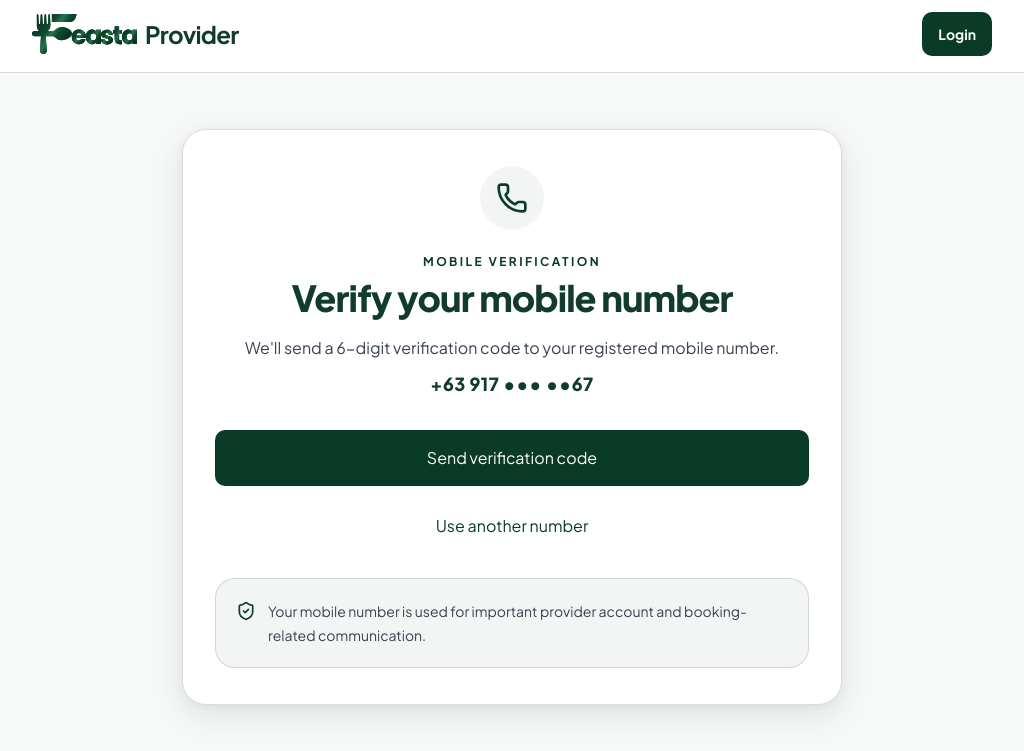
Scenario: provider phone verification › shows a safe invalid-code error and keeps the code form available
Click the button "Send verification code": (512, 458) [215,430,809,486]
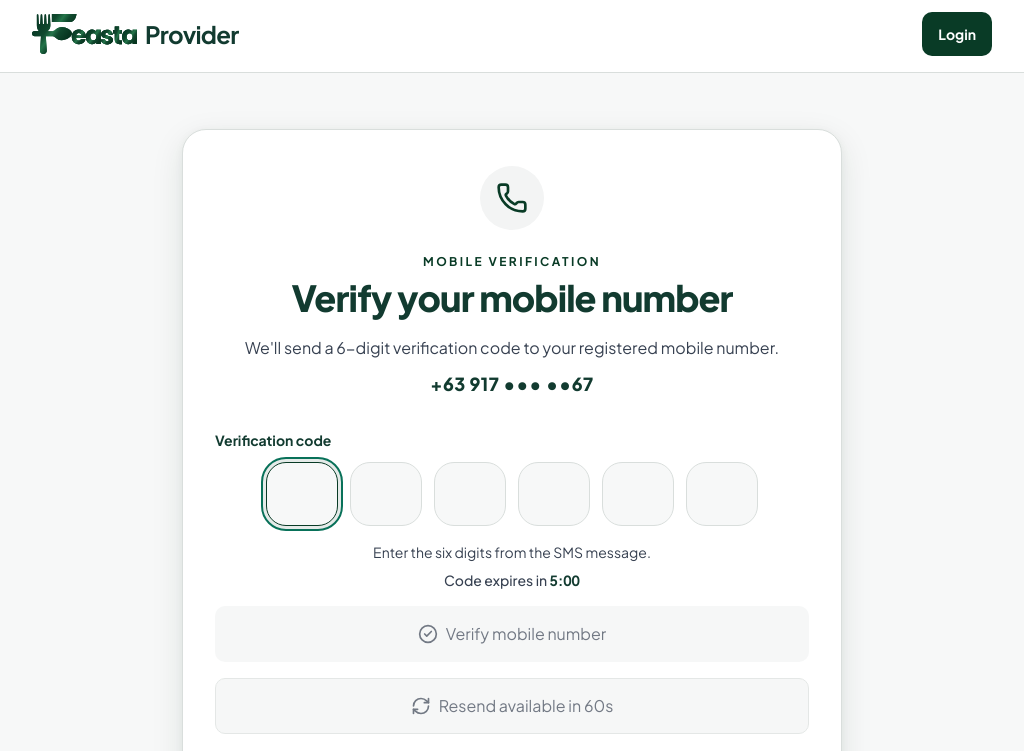
In the field named "Verification code digit 1 of 6": (302, 494) [266,462,338,526], type "111111"
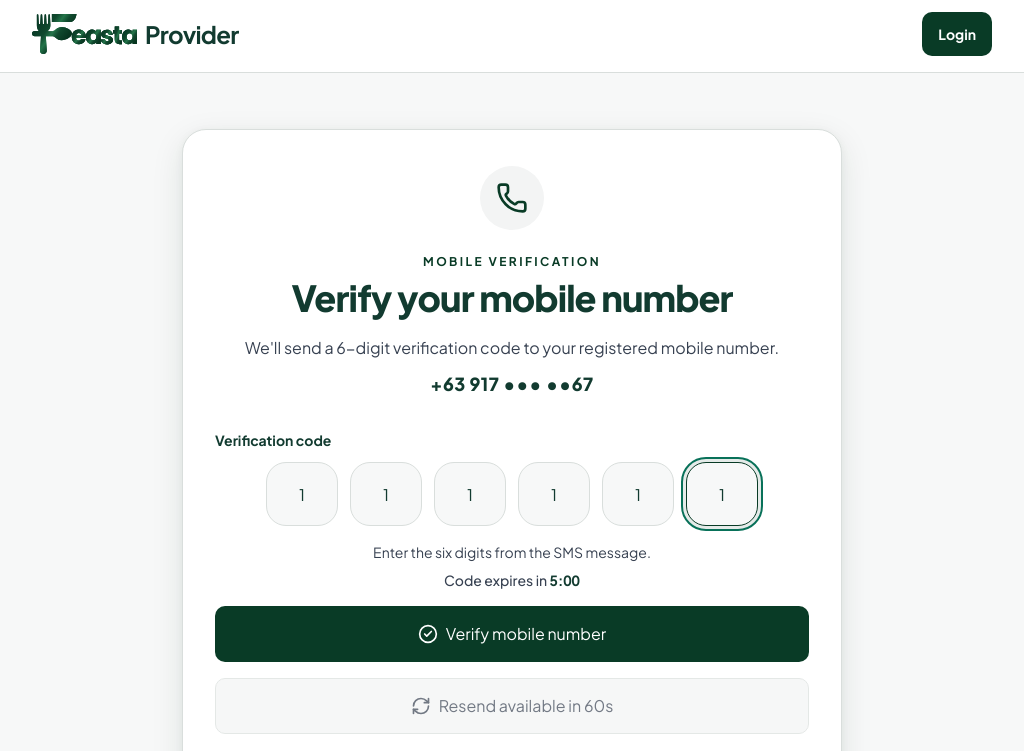
Click the button "Verify mobile number": (512, 634) [215,606,809,662]
(page scrolled)
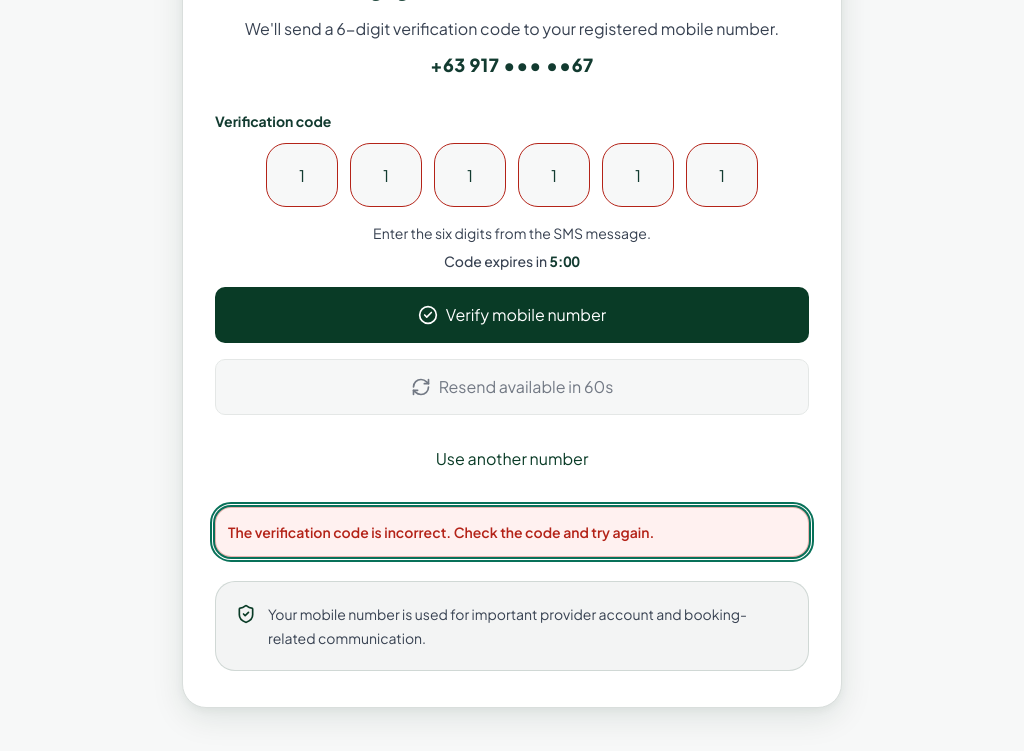
Expected: the element named "Verification code" is shown, [266,143,758,207]
Expected: the message shows "The verification code is incorrect", [228,523,654,541]
